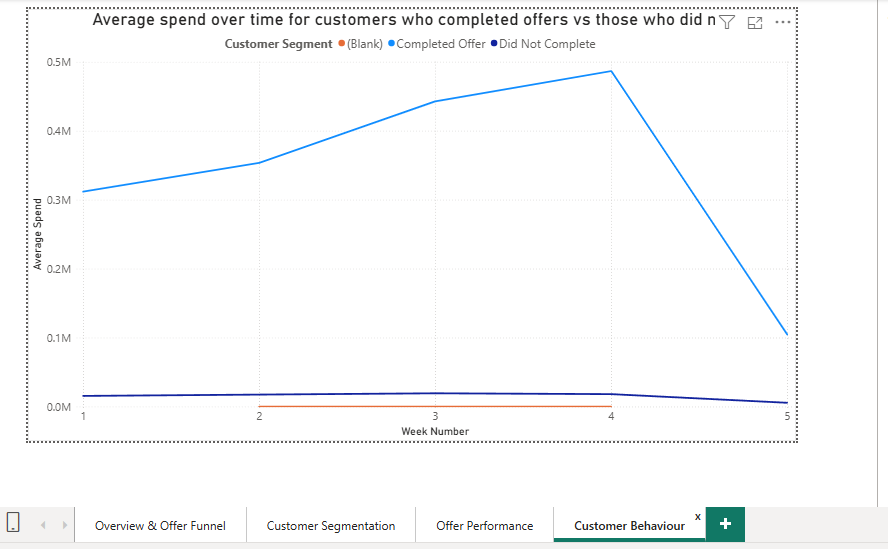

What the dashboard file says about the page in this screenshot:
{"tool":"powerbi","page":{"name":"Customer Behaviour","canvas":[1280,720],"ordinal":3},"visuals":[{"type":"lineChart","title":"Average spend over time for customers who  completed offers vs those who did not","fields":{"Series":["customers.Customer Segment"],"Category":["events.Week Number"],"Y":["Sum(events.Average Spend)"]},"box":[0,0,1280.2,719.8],"z":0}]}

Visuals, with their boxes on the page's 1280x720 design canvas (x1, y1, x2, y2). These are canvas units, not pixel positions in the 888x549 screenshot, which may show the page scaled, cropped or inside an application window:
"Average spend over time for customers who  completed offers vs those who did not" lineChart: BBox(0, 0, 1280, 720)
